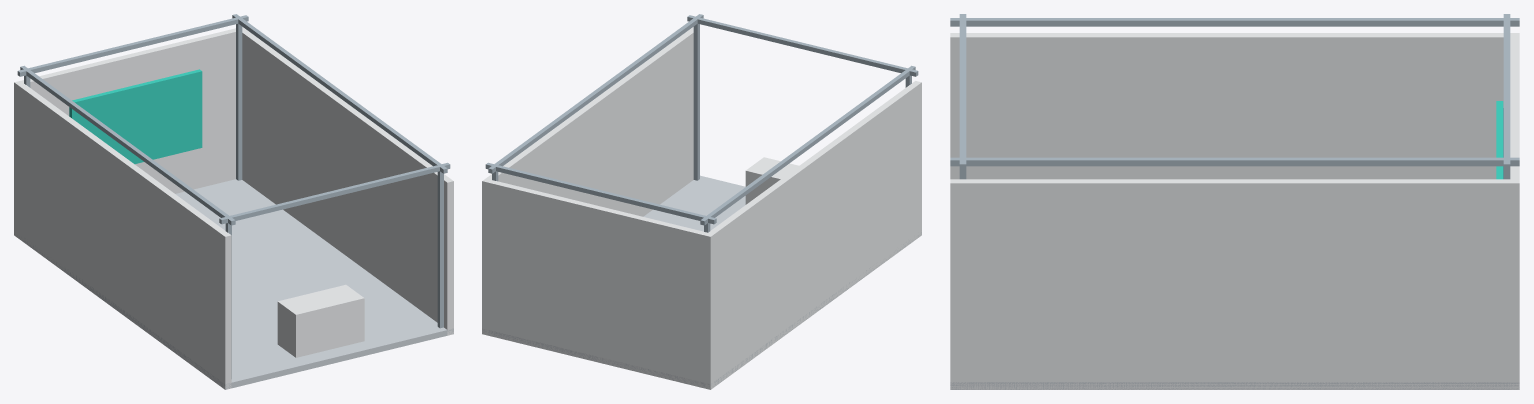
3 renders of one model, left to right at view 1: azimuth 30°, elevation 25°; view 2: azimuth 150°, elevation 25°; view 3: azimuth 270°, elevation 25°, orthographic. The views are drawn at different scales.
Parts seen in each view (by area): view 1: Exhibition Booth Concept; view 2: Exhibition Booth Concept; view 3: Exhibition Booth Concept.
Boxes of the visible parts, x1,y1,x2,y2 form: Exhibition Booth Concept: (14, 14, 453, 389); Exhibition Booth Concept: (482, 14, 921, 389); Exhibition Booth Concept: (950, 14, 1519, 389).
Size of the model in its own units: 5 by 3.49 by 8.
